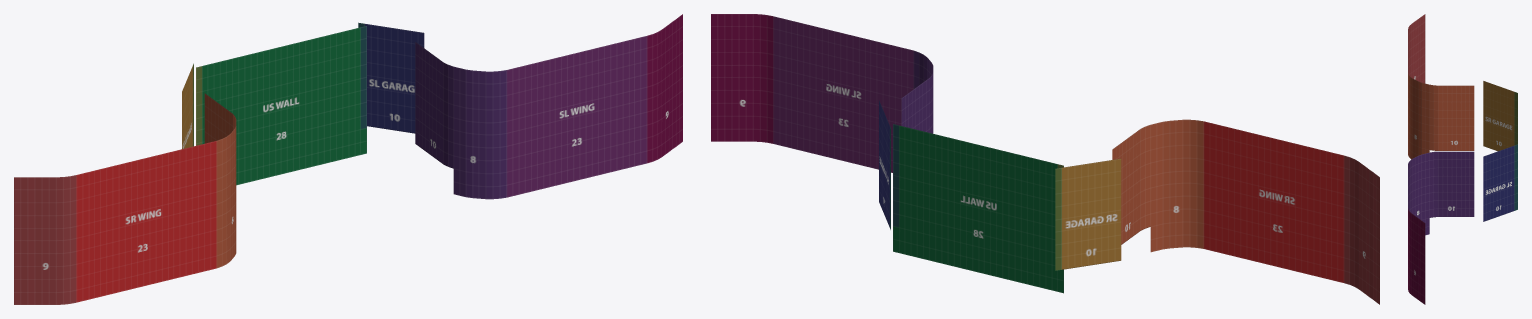
File: ANYMA_Coachella_Stage_v024_FestivalMapping_Garagefix.glb
3 renders of one model, left to right at view 1: azimuth 30°, elevation 25°; view 2: azimuth 150°, elevation 25°; view 3: azimuth 270°, elevation 25°, orthographic. The views are drawn at different scales.
Visible parts, largest first — view 1: LED_SL_WING.001, LED_SR_WING.001, LED_US_WALL.001, LED_SL_GARAGE.001, LED_SR_GARAGE.004; view 2: LED_SR_WING.001, LED_SL_WING.001, LED_US_WALL.001, LED_SR_GARAGE.004, LED_SL_GARAGE.001; view 3: LED_SL_WING.001, LED_SR_WING.001, LED_SL_GARAGE.001, LED_SR_GARAGE.004.
Boxes of the visible parts, left/top/right/bottom form: LED_SL_WING.001: left=415, top=14, right=682, bottom=199; LED_SR_WING.001: left=14, top=93, right=236, bottom=304; LED_US_WALL.001: left=196, top=26, right=366, bottom=185; LED_SL_GARAGE.001: left=358, top=22, right=424, bottom=133; LED_SR_GARAGE.004: left=182, top=63, right=193, bottom=148; LED_SR_WING.001: left=1112, top=119, right=1379, bottom=304; LED_SL_WING.001: left=711, top=14, right=933, bottom=172; LED_US_WALL.001: left=893, top=124, right=1063, bottom=293; LED_SR_GARAGE.004: left=1055, top=158, right=1121, bottom=270; LED_SL_GARAGE.001: left=879, top=100, right=890, bottom=229; LED_SL_WING.001: left=1408, top=151, right=1474, bottom=304; LED_SR_WING.001: left=1408, top=14, right=1474, bottom=159; LED_SL_GARAGE.001: left=1483, top=144, right=1517, bottom=221; LED_SR_GARAGE.004: left=1483, top=81, right=1517, bottom=151.
Bounding box in the file's own units: 65.79 × 12.01 × 14.6.
Materials: 1 (1 with a texture image).
